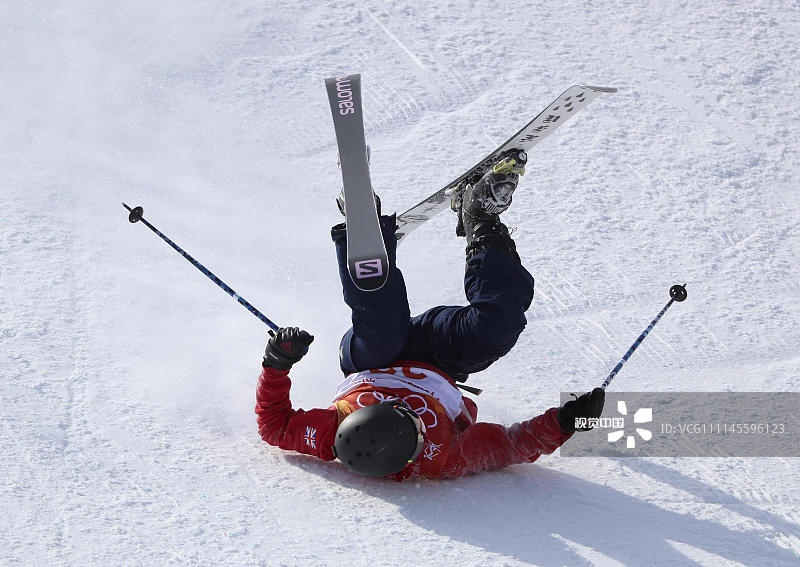falling: (222, 108, 605, 503)
